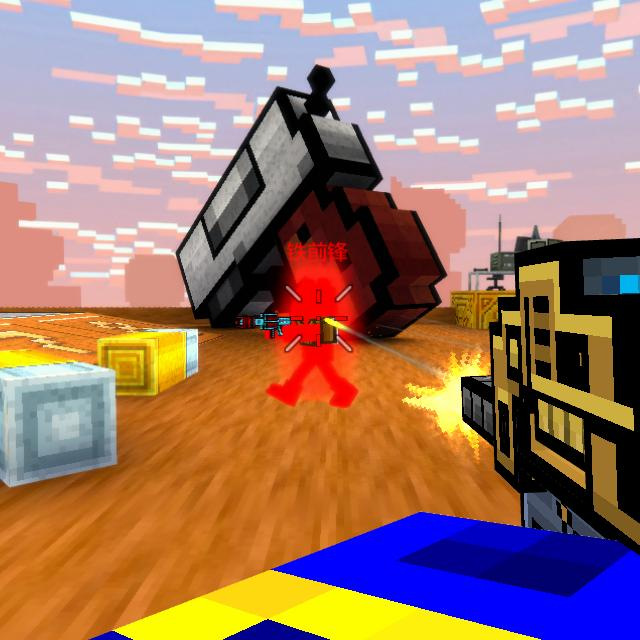Enemy: (268, 282, 340, 406)
